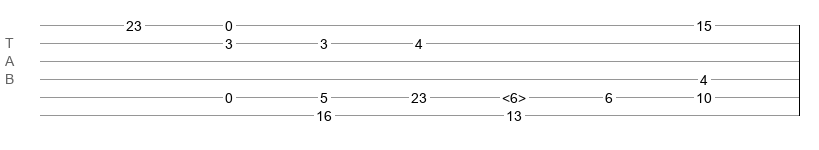0: (225, 90, 233, 100), (225, 18, 233, 28)
10: (696, 90, 712, 100)
13: (506, 108, 522, 118)
15: (696, 18, 712, 28)
16: (316, 108, 332, 118)
23: (126, 18, 142, 28), (411, 90, 427, 100)
3: (225, 36, 233, 46), (320, 36, 328, 46)
4: (415, 36, 423, 46), (700, 72, 708, 82)
5: (320, 90, 328, 100)
6: (605, 90, 613, 100)
harmonic: (502, 90, 526, 100)
